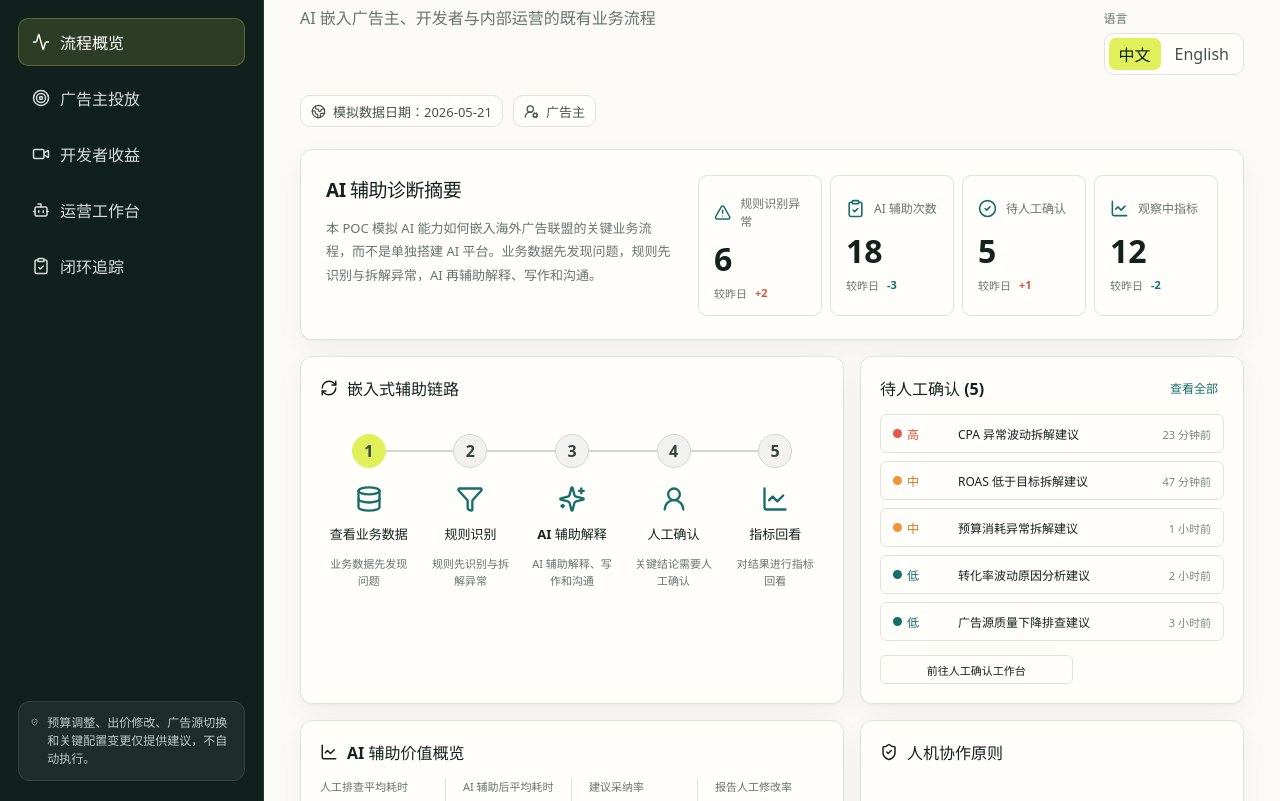
Test: accepts an advertiser recommendation and opens follow-up tracking
The width and height of the screenshot is (1280, 801).
Click the button with test id "nav-advertiser": (132, 98) [18,74,245,122]
(page scrolled)
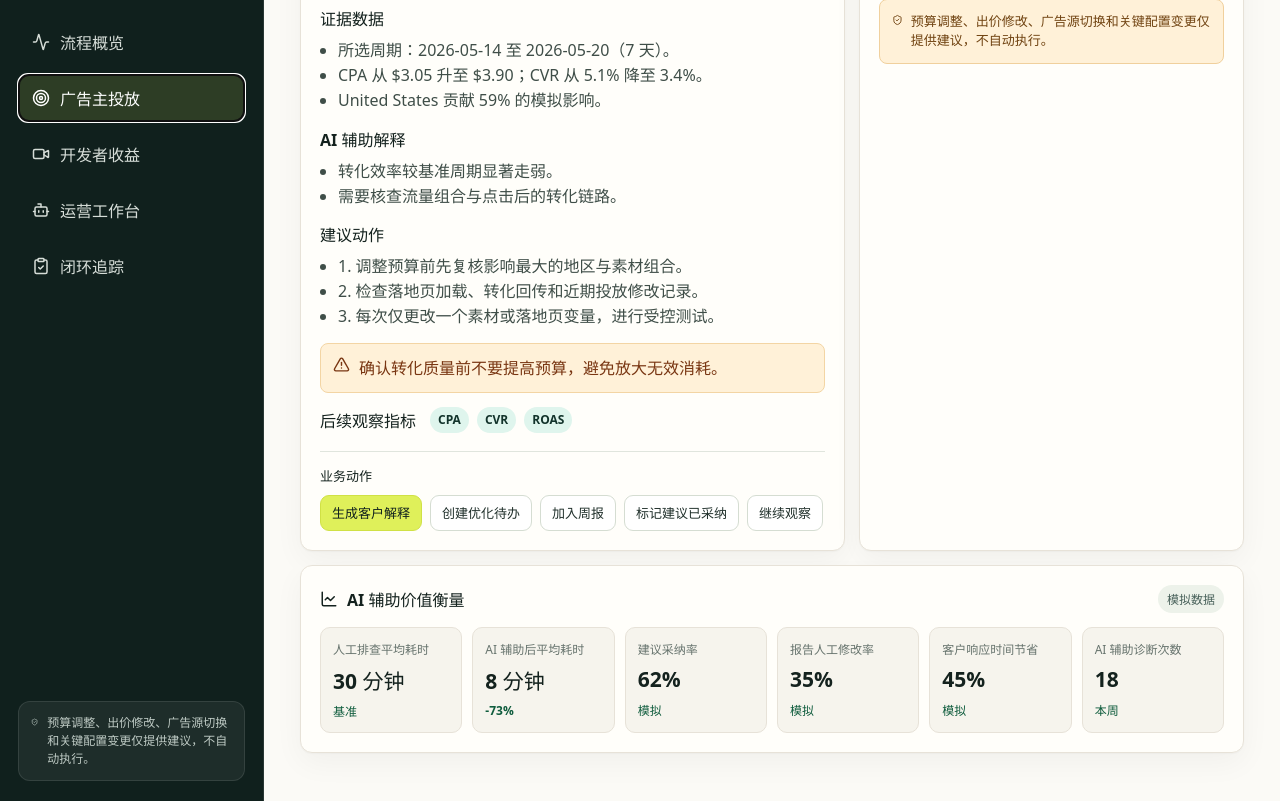
Click the button with test id "accept-recommendation": (682, 513) [624,495,739,531]
(page scrolled)
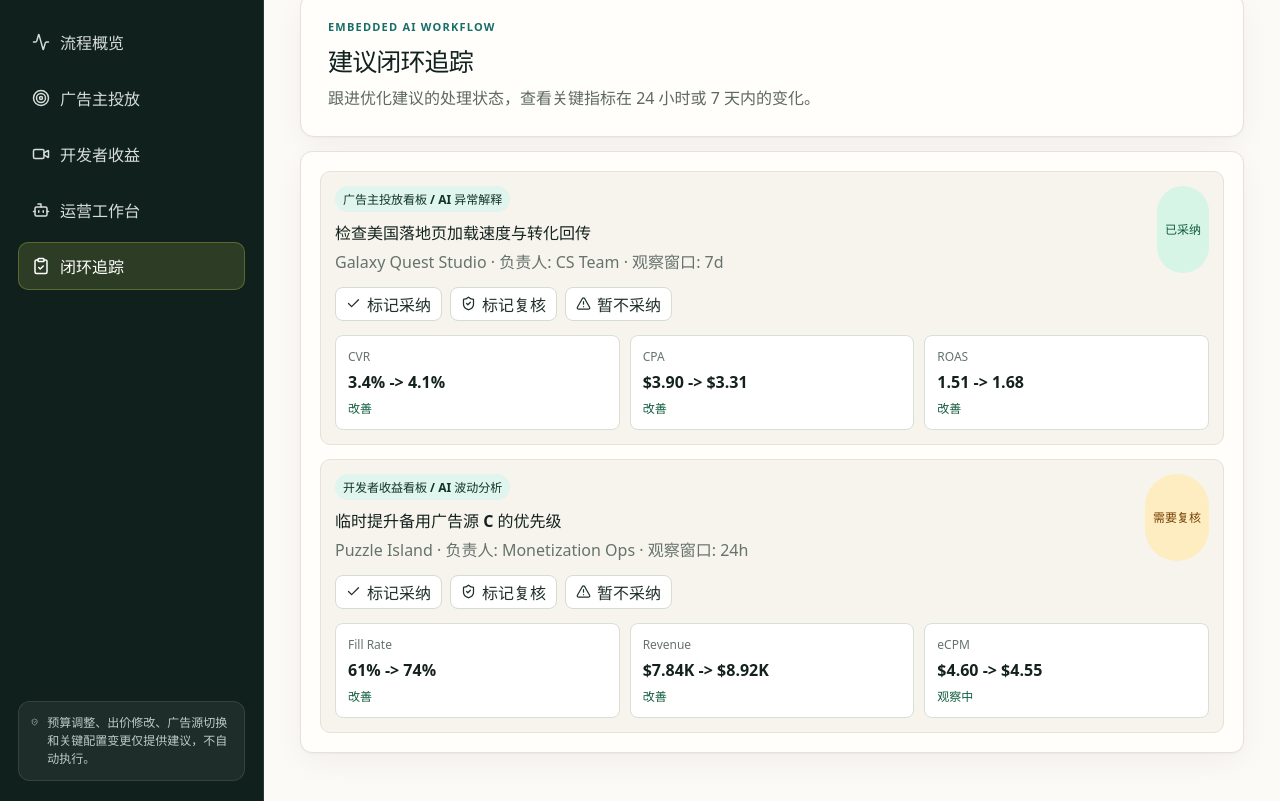
Expected: the text "已采纳" is shown, [1157,186,1209,273]
Expected: the heading "建议闭环追踪" is shown, [328,44,473,78]
